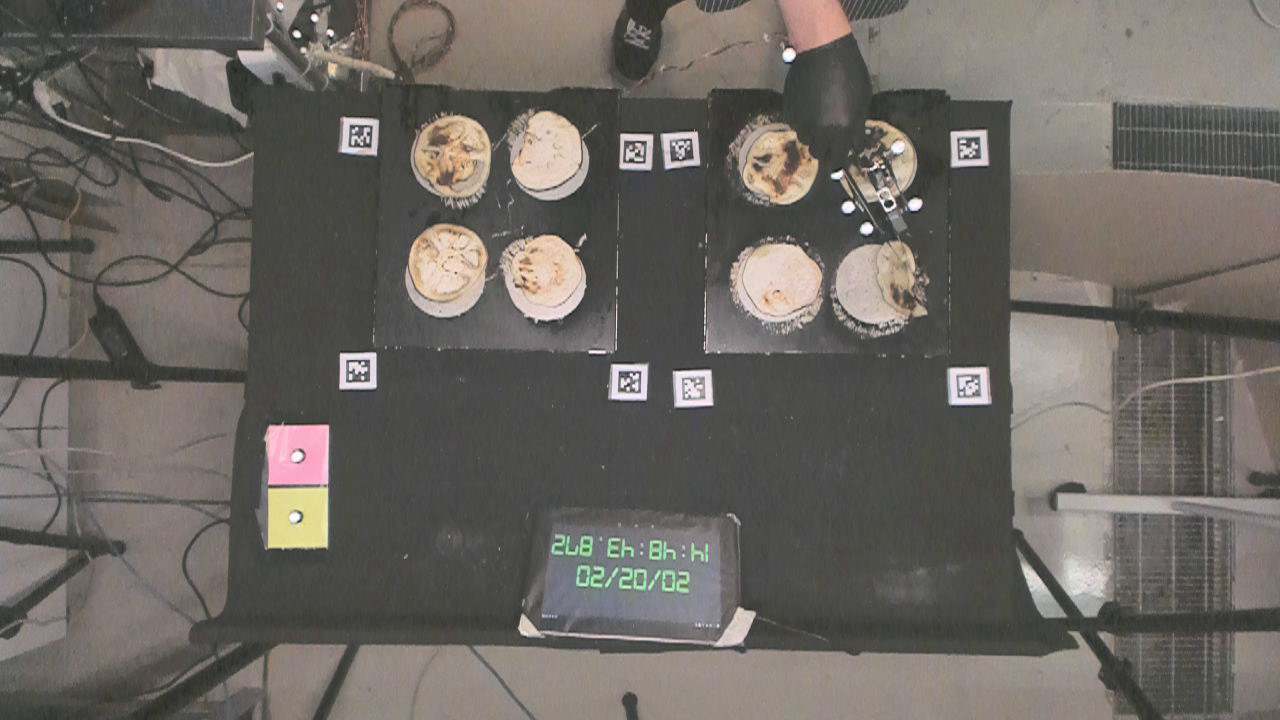eggplant: (413, 110, 490, 201), (408, 226, 492, 302), (742, 126, 820, 203), (511, 110, 585, 190), (745, 243, 819, 317), (512, 231, 582, 306), (879, 241, 935, 321)
marker: (264, 424, 330, 485)
